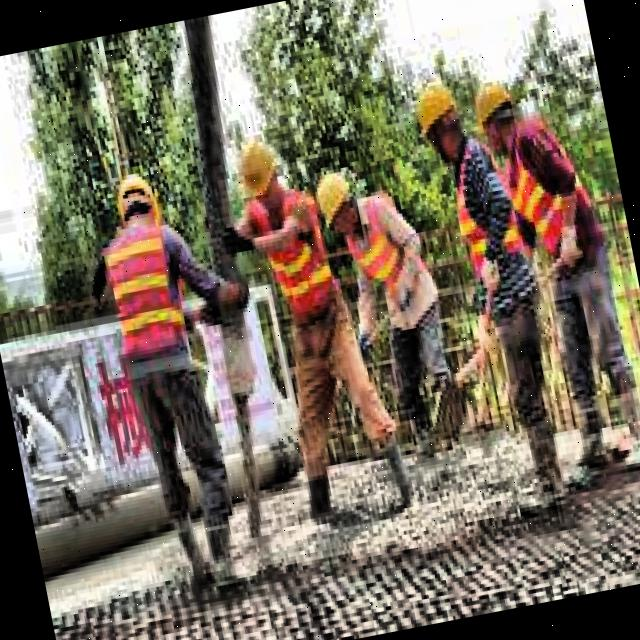helmet: (408, 70, 472, 167), (466, 74, 526, 160), (230, 131, 292, 210), (310, 170, 368, 254), (111, 167, 165, 240)
